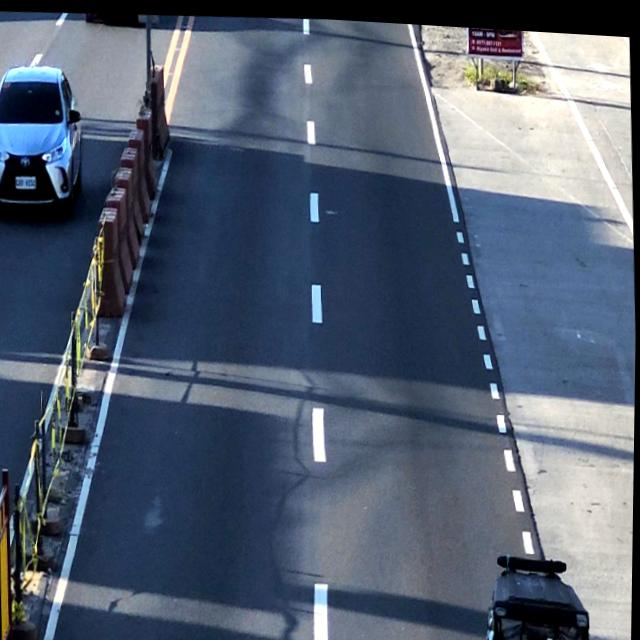Tricycle: (480, 548, 590, 640)
